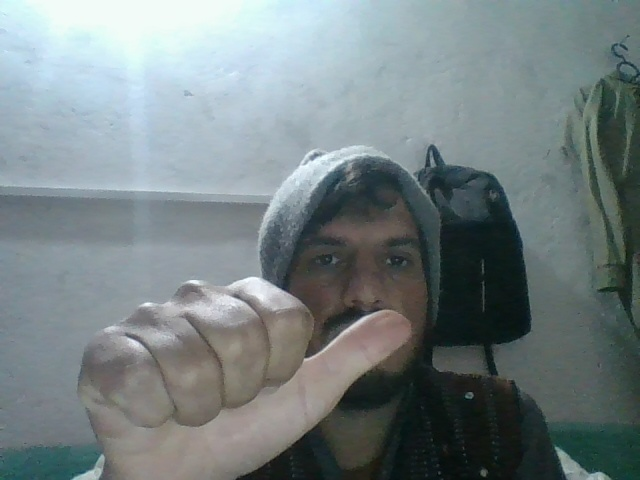ThumbsUp: (77, 276, 415, 480)
